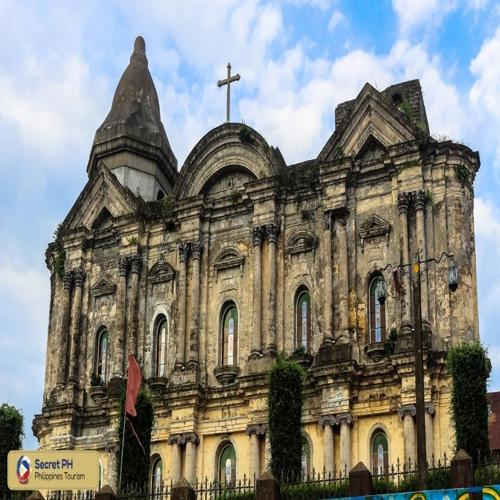Taal Basilica Church: (31, 21, 489, 492)
